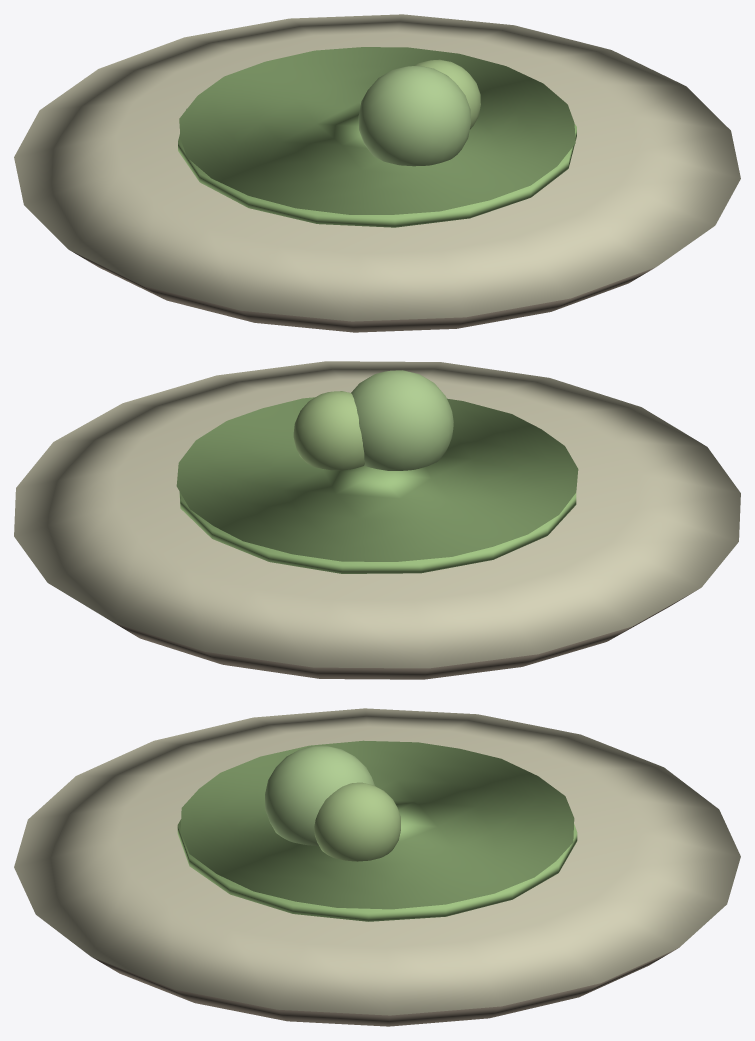
The model's file is terrain_island_05.glb.
The picture shows the model from 3 angles, top to bottom: view 1: azimuth 30°, elevation 25°; view 2: azimuth 150°, elevation 25°; view 3: azimuth 270°, elevation 25°; orthographic projection.
Parts seen in each view (by area): view 1: island_sand, island_grass_dome, hill0, island_base, island_grass_base, hill1; view 2: island_sand, island_grass_dome, hill0, island_base, island_grass_base, hill1; view 3: island_sand, island_grass_dome, hill0, hill1, island_base, island_grass_base.
Boxes of the visible parts, x1,y1,x2,y2 form: island_sand: (14, 14, 740, 321); island_grass_dome: (179, 47, 575, 214); hill0: (358, 65, 470, 166); island_base: (70, 250, 655, 332); island_grass_base: (178, 109, 576, 227); hill1: (414, 59, 480, 129); island_sand: (14, 361, 740, 668); island_grass_dome: (176, 397, 578, 561); hill0: (351, 370, 453, 470); island_base: (114, 590, 696, 679); island_grass_base: (179, 492, 576, 573); hill1: (293, 391, 364, 470); island_sand: (14, 708, 740, 1015); island_grass_dome: (180, 740, 574, 909); hill0: (265, 746, 374, 845); hill1: (314, 782, 400, 861); island_base: (92, 948, 677, 1026); island_grass_base: (177, 819, 577, 921).
Size of the model in its own units: 150 by 32.25 by 150.
